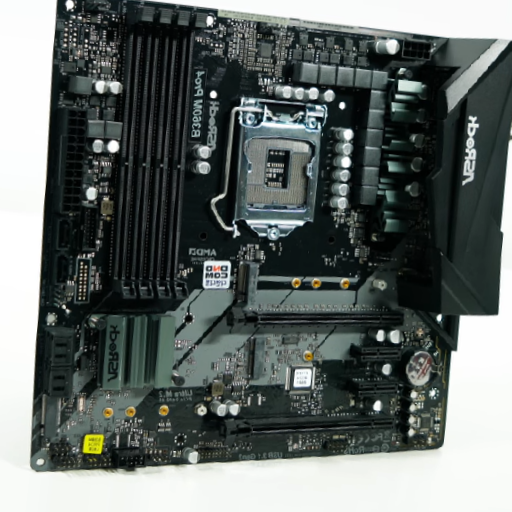CPU: (235, 97, 328, 239)
GPU: (228, 305, 405, 334), (217, 418, 398, 444)
MOTHERBOARD: (31, 1, 450, 468)
RAM: (111, 3, 207, 302)
SSD: (236, 261, 258, 304), (248, 336, 265, 380)
